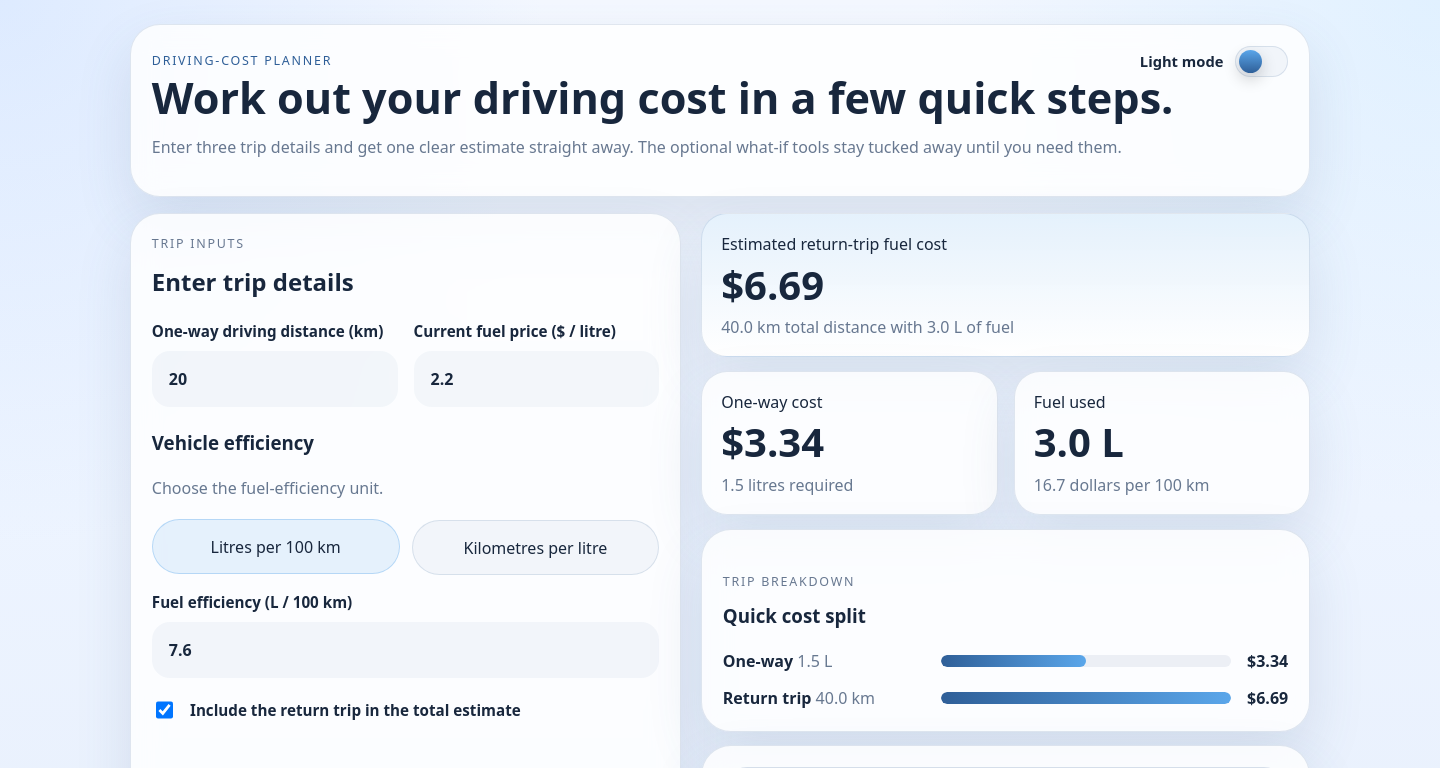
Test: App › uses the browser default theme and lets the user toggle it
The width and height of the screenshot is (1440, 768).
Click the switch named "switch to dark mode": (1261, 61) [1235,46,1288,77]
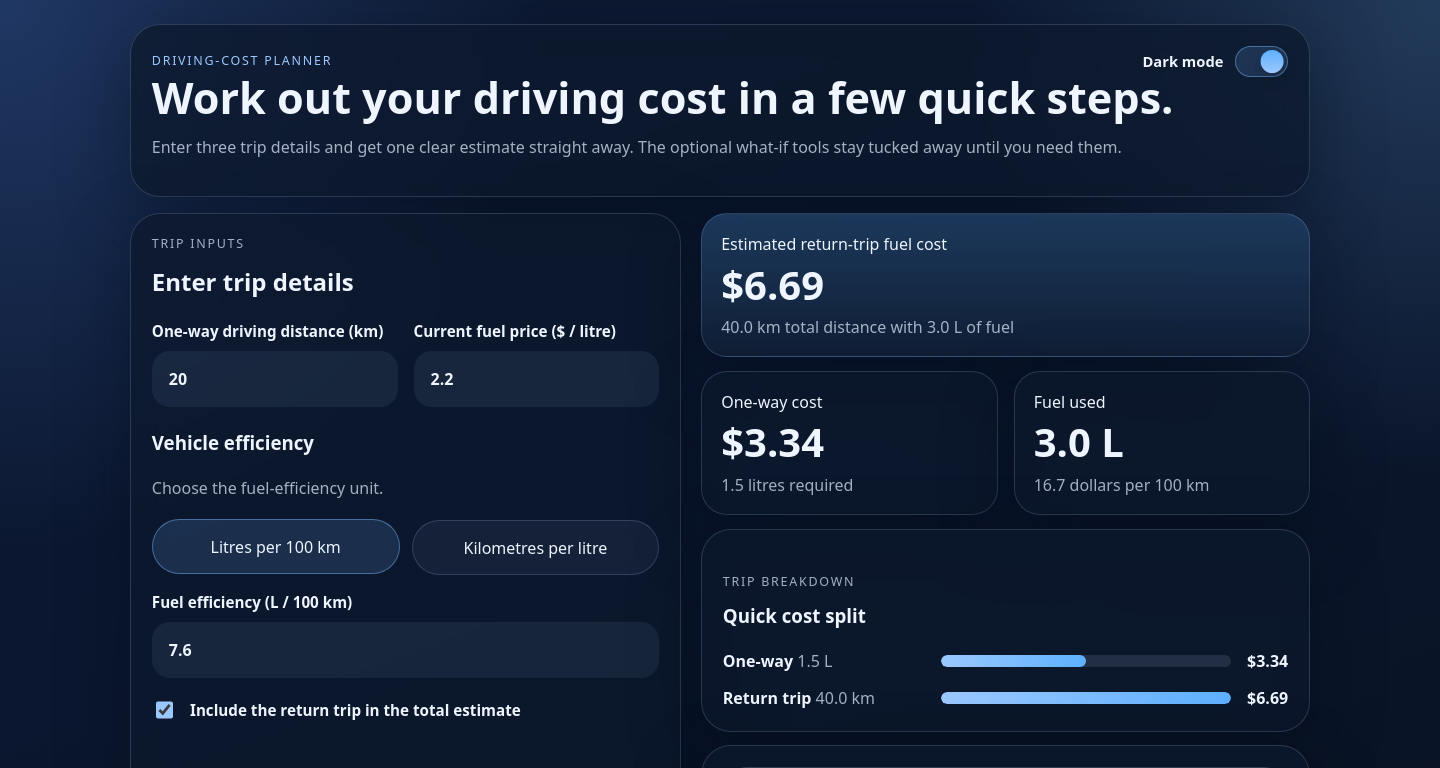
Result: the switch named "switch to light mode" is shown at [1235,46,1288,77]
